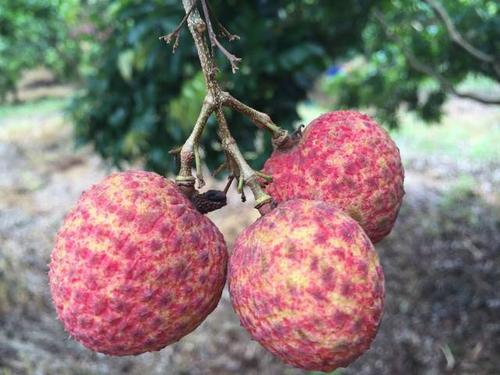litchi: (52, 118, 407, 360)
stem: (181, 1, 234, 113)
